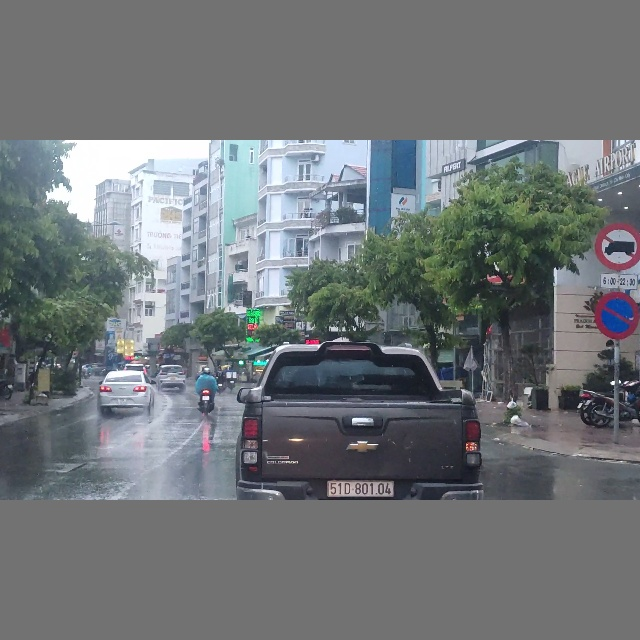P.106a*Xe tai: (594, 222, 640, 271)
P.131a: (594, 291, 639, 339)
